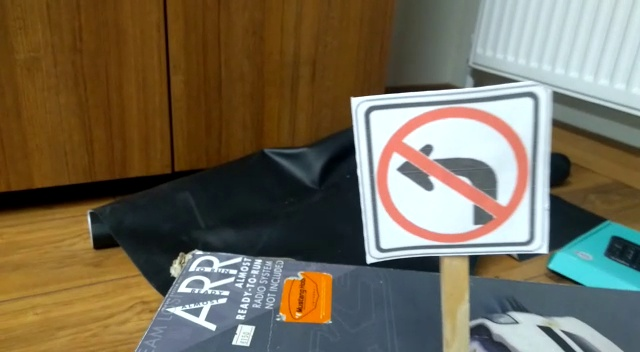sola_donulmez: (370, 86, 541, 255)
